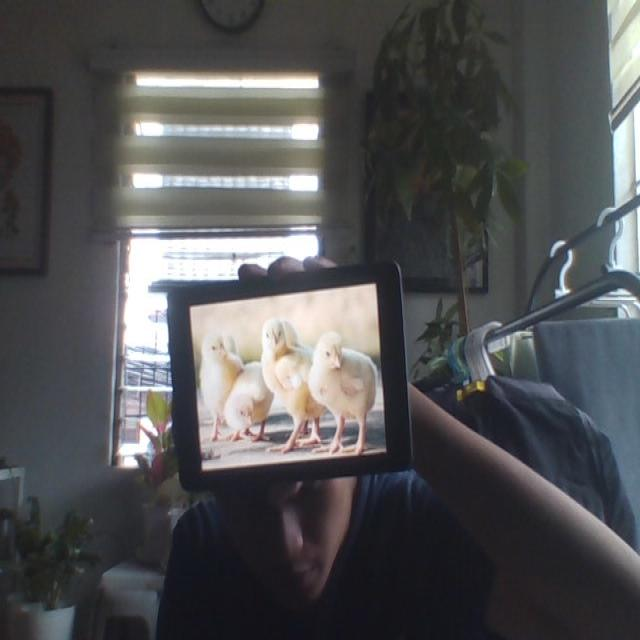Healthy: (259, 322, 327, 450), (310, 327, 375, 456), (199, 325, 239, 396)
Sick: (224, 363, 277, 448)
